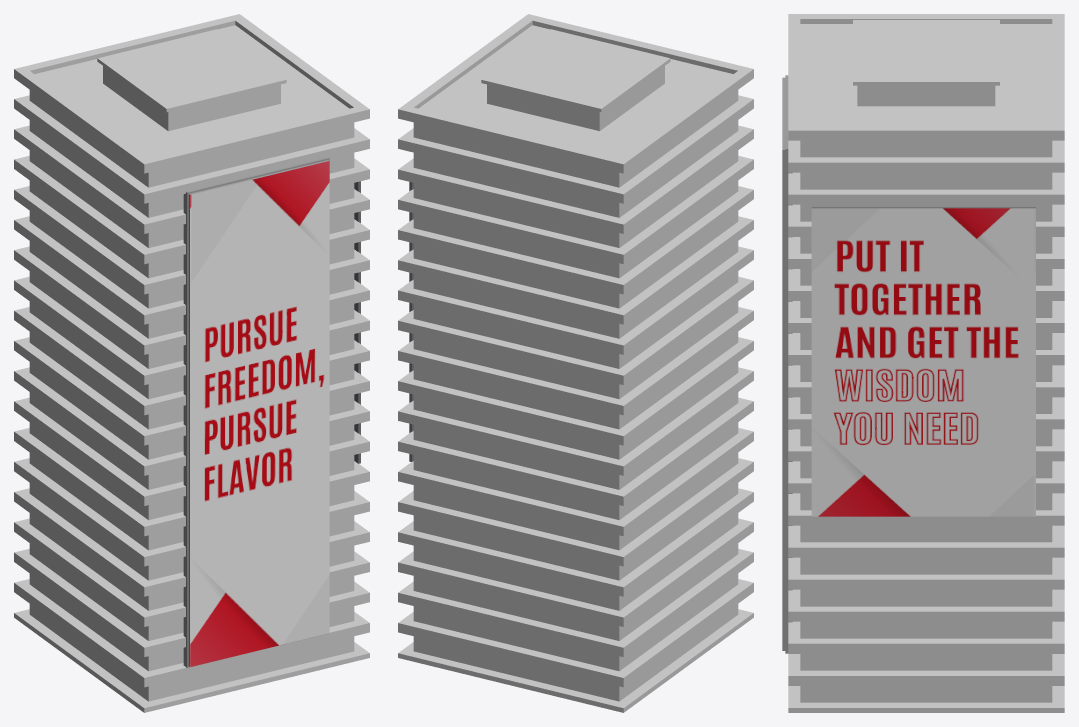
3 views of the same model, side by side, from view 1: azimuth 30°, elevation 25°; view 2: azimuth 150°, elevation 25°; view 3: azimuth 270°, elevation 25° (orthographic). The views are drawn at different scales.
Parts seen in each view (by area): view 1: gedung 1, bb2, bb1; view 2: gedung 1; view 3: gedung 1, bb1, bb2.
Boxes of the visible parts, left/top/right/bottom form: gedung 1: left=14, top=14, right=369, bottom=712; bb2: left=183, top=157, right=329, bottom=667; bb1: left=354, top=181, right=360, bottom=463; gedung 1: left=398, top=14, right=753, bottom=712; gedung 1: left=788, top=14, right=1064, bottom=712; bb1: left=811, top=207, right=1035, bottom=516; bb2: left=782, top=75, right=792, bottom=653.
Size of the model in its own units: 2.94 by 7.01 by 2.97.
Materials: 5 (2 with a texture image).
